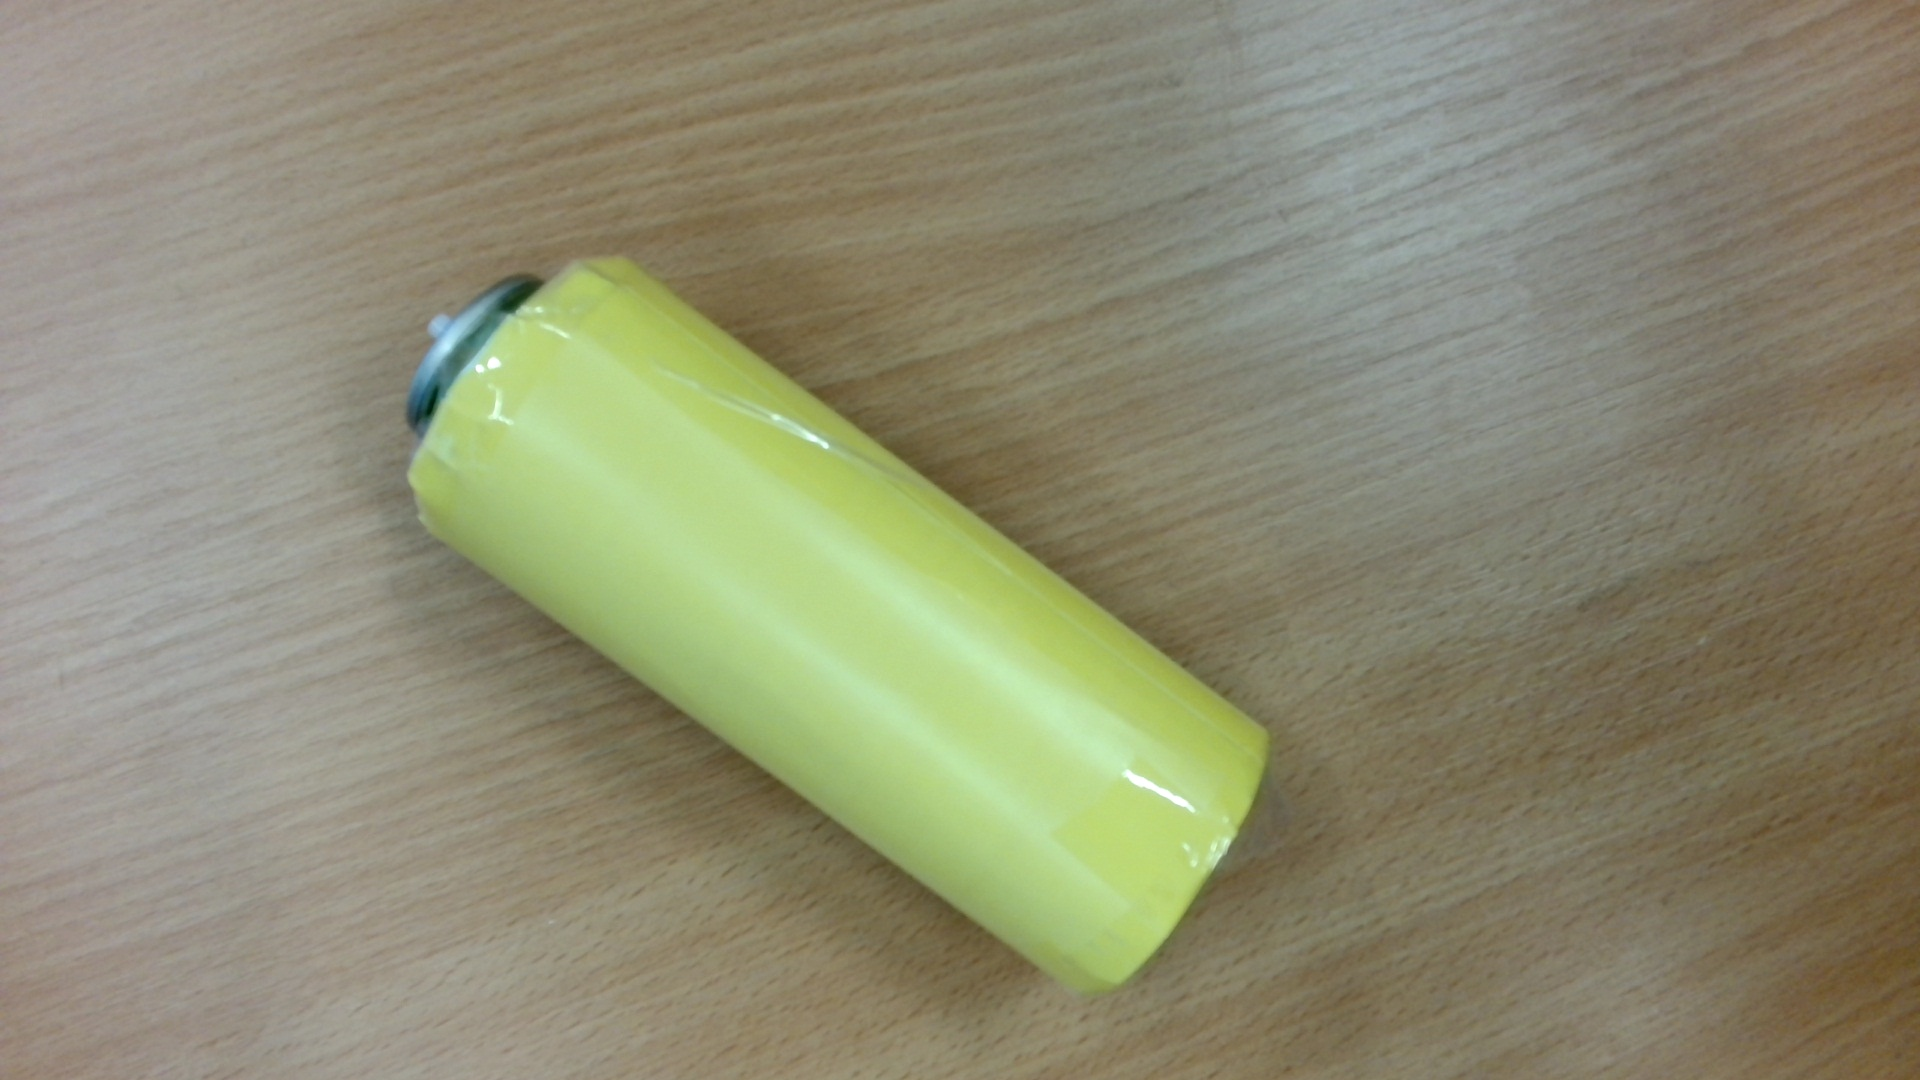Cylinder: (394, 232, 1298, 1022)
